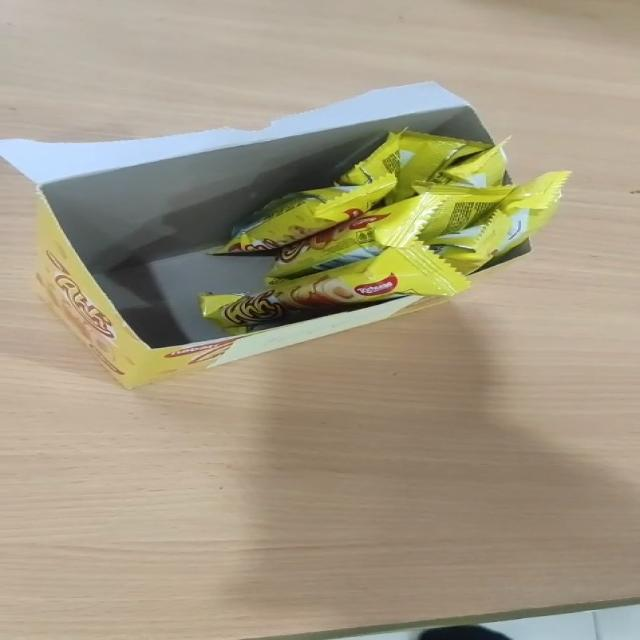Ahh: (264, 181, 515, 281), (198, 244, 473, 332), (205, 173, 398, 255), (430, 170, 573, 275), (334, 127, 492, 207), (430, 134, 511, 188)
